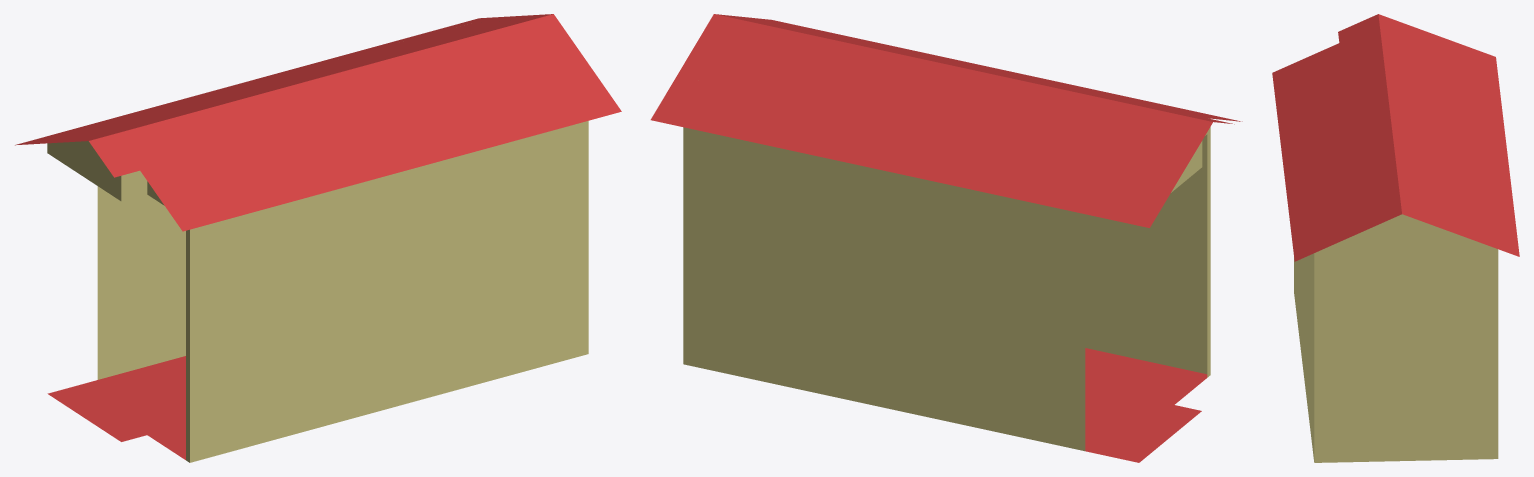
The picture shows the model from 3 angles, left to right: view 1: azimuth 30°, elevation 25°; view 2: azimuth 150°, elevation 25°; view 3: azimuth 270°, elevation 25°; orthographic projection. The views are drawn at different scales.
Size of the model in its own units: 11.76 by 6.01 by 6.84.
